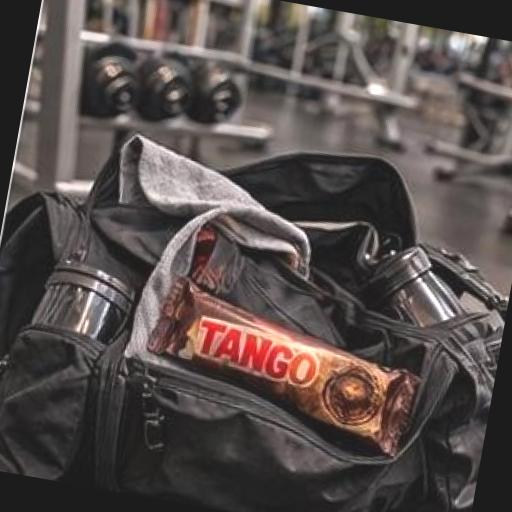tango: (90, 213, 494, 510)
